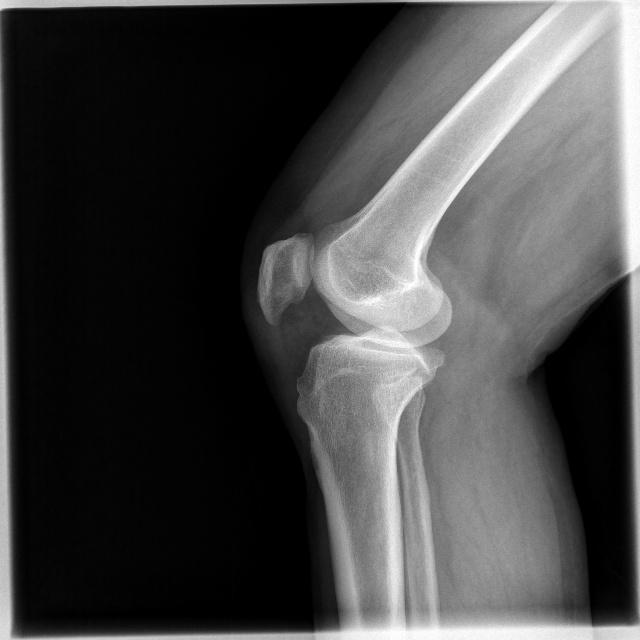Knee: (255, 229, 454, 422)
